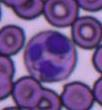N: (24, 30, 76, 82)
